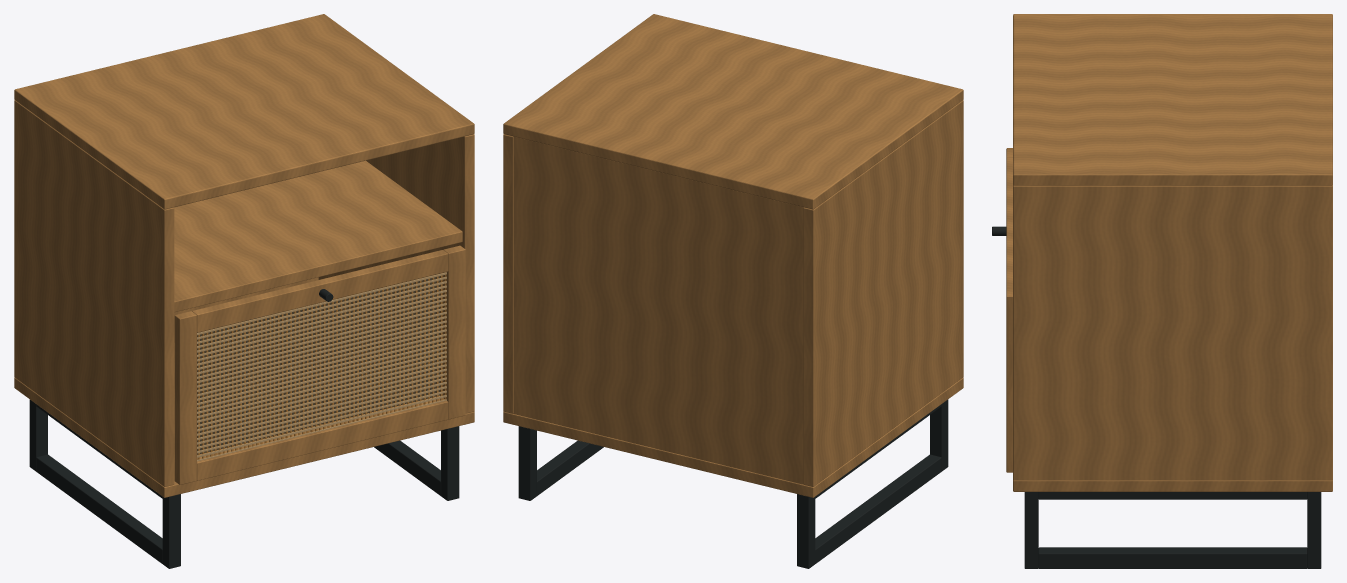
Rendered from nathan-james-mina-nightstand.glb.
The picture shows the model from 3 angles, left to right: view 1: azimuth 30°, elevation 25°; view 2: azimuth 150°, elevation 25°; view 3: azimuth 270°, elevation 25°; orthographic projection. The views are drawn at different scales.
Parts seen in each view (by area): view 1: Oak top, Oak cabinet side, Open upper cubby shelf, Shadow visible through cane, Oak cabinet side.001, Door horizontal oak rail.001, Door horizontal oak rail, Oak cabinet floor, Door vertical oak stile, Door vertical oak stile.001, Metal sled side, Metal sled side.001 (+32 smaller); view 2: Oak back, Oak top, Oak cabinet side, Oak cabinet floor, Metal sled side, Oak cabinet side.001, Metal sled side.001, Black metal foot.003, Black metal foot.001, Black metal foot; view 3: Oak cabinet side.001, Oak top, Metal sled side.001, Oak cabinet floor, Metal mounting rail.001, Door vertical oak stile.001, Black metal foot.002, Black metal foot.003, Door horizontal oak rail.001.
Part boxes in pixels (bbox=[...]): Oak top: bbox=[14, 14, 474, 209]; Oak cabinet side: bbox=[14, 100, 174, 486]; Open upper cubby shelf: bbox=[174, 160, 462, 312]; Shadow visible through cane: bbox=[197, 273, 439, 454]; Oak cabinet side.001: bbox=[318, 134, 474, 413]; Door horizontal oak rail.001: bbox=[192, 250, 448, 332]; Door horizontal oak rail: bbox=[197, 398, 448, 480]; Oak cabinet floor: bbox=[14, 343, 474, 497]; Door vertical oak stile: bbox=[174, 311, 196, 484]; Door vertical oak stile.001: bbox=[443, 245, 465, 419]; Metal sled side: bbox=[36, 454, 162, 563]; Metal sled side.001: bbox=[374, 440, 440, 495]; Oak back: bbox=[513, 136, 803, 484]; Oak top: bbox=[503, 14, 963, 209]; Oak cabinet side: bbox=[803, 100, 963, 486]; Oak cabinet floor: bbox=[503, 377, 963, 497]; Metal sled side: bbox=[815, 454, 941, 563]; Oak cabinet side.001: bbox=[503, 134, 513, 413]; Metal sled side.001: bbox=[537, 440, 603, 495]; Black metal foot.003: bbox=[518, 426, 536, 500]; Black metal foot.001: bbox=[797, 494, 815, 568]; Black metal foot: bbox=[930, 399, 948, 471]; Oak cabinet side.001: bbox=[1013, 185, 1332, 480]; Oak top: bbox=[1013, 14, 1332, 185]; Metal sled side.001: bbox=[1038, 547, 1307, 568]; Oak cabinet floor: bbox=[1013, 480, 1332, 491]; Metal mounting rail.001: bbox=[1038, 492, 1307, 499]; Door vertical oak stile.001: bbox=[1006, 287, 1012, 472]; Black metal foot.002: bbox=[1024, 492, 1038, 568]; Black metal foot.003: bbox=[1307, 492, 1321, 568]; Door horizontal oak rail.001: bbox=[1006, 157, 1012, 287].
Size of the model in its own units: 0.4826 by 0.5588 by 0.4318.
5 materials, 2 textured.
